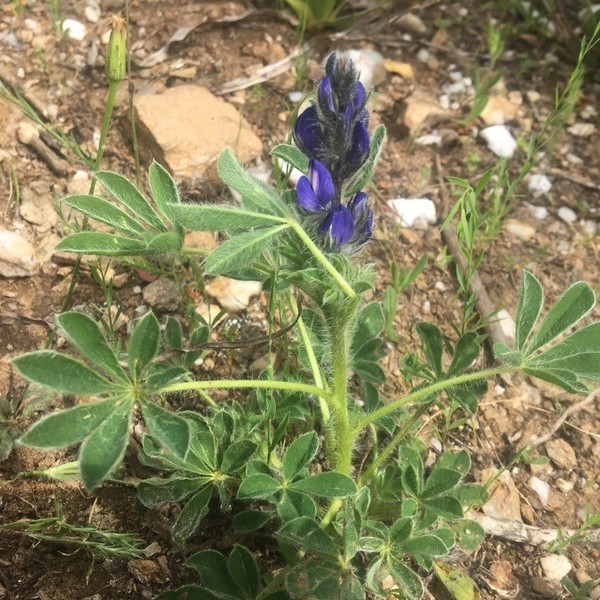obstacle: (50, 70, 507, 541)
